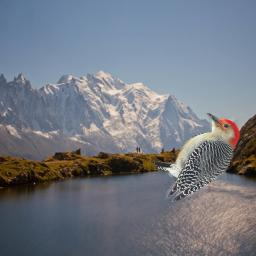Woodpecker: (151, 113, 240, 202)
